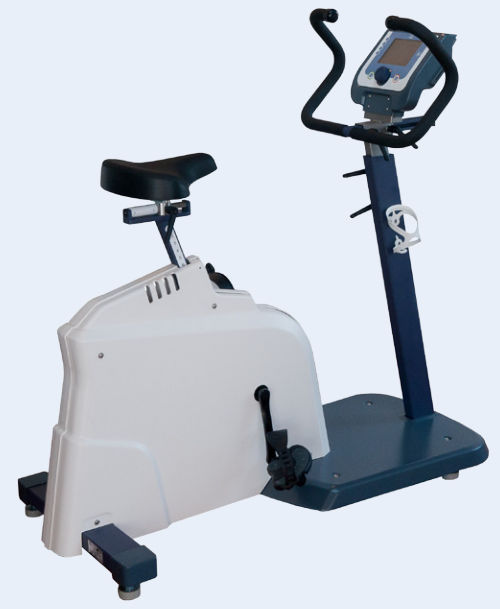gym_bike: (31, 9, 476, 591)
